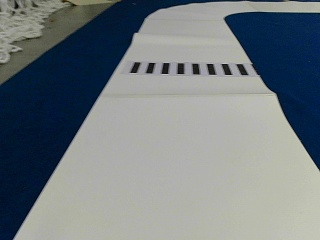crosswalk: (127, 60, 248, 77)
